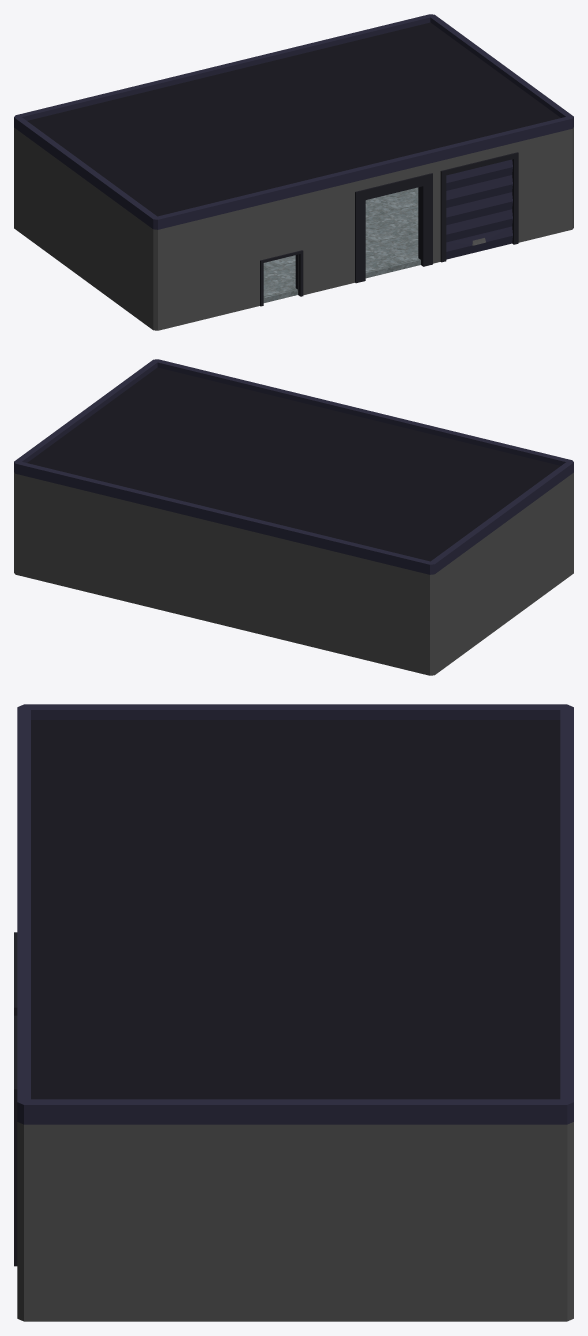
Rendered from workshopv3.obj.
The picture shows the model from 3 angles, top to bottom: view 1: azimuth 30°, elevation 25°; view 2: azimuth 150°, elevation 25°; view 3: azimuth 270°, elevation 25°; orthographic projection. The views are drawn at different scales.
Parts seen in each view (by area): view 1: mergedBlocks; view 2: mergedBlocks; view 3: mergedBlocks.
Boxes of the visible parts, x1,y1,x2,y2 form: mergedBlocks: (14,14,573,330); mergedBlocks: (14,359,573,675); mergedBlocks: (14,704,573,1321).
Size of the model in its own units: 8.72 by 2.2 by 5.15.
Materials: 5 (1 with a texture image).
